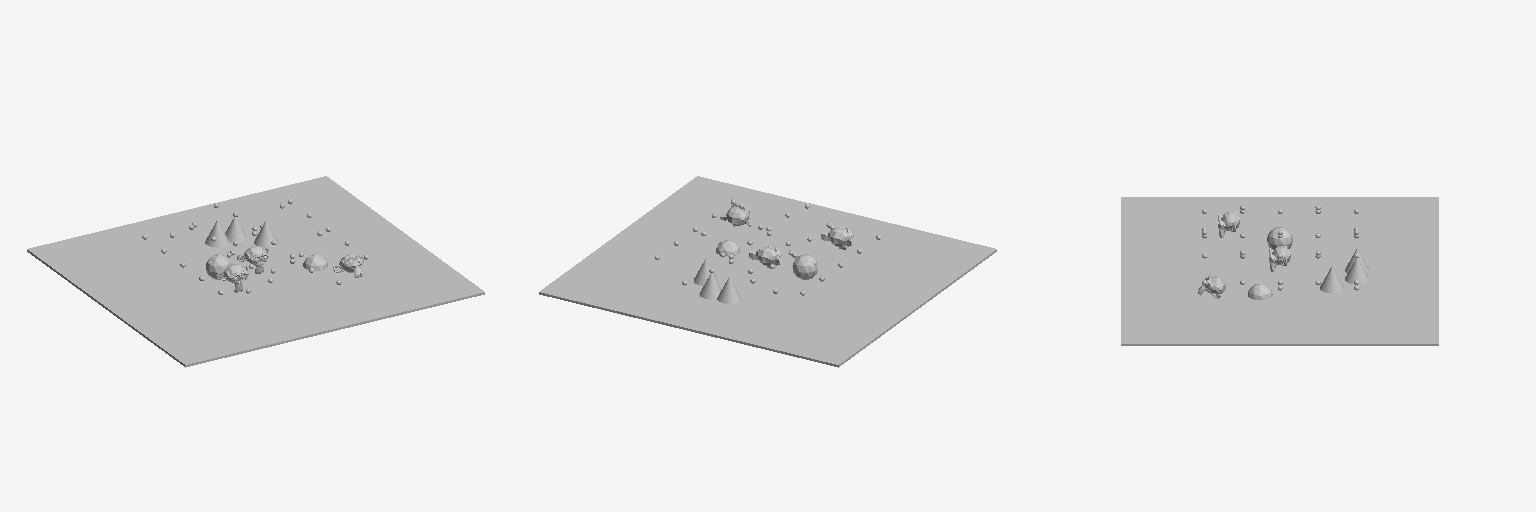
Rendered from many_lights_scene.obj.
The picture shows the model from 3 angles: view 1: azimuth 30°, elevation 25°; view 2: azimuth 150°, elevation 25°; view 3: azimuth 270°, elevation 25°; orthographic projection.
Parts seen in each view (by area): view 1: Cube; view 2: Cube; view 3: Cube.
Boxes of the visible parts, box(x1,y1,x2,y2) form: Cube: box(27, 176, 484, 367); Cube: box(539, 176, 996, 367); Cube: box(1121, 197, 1438, 345).
Bounding box in the file's own units: 26.02 × 4.67 × 23.85.